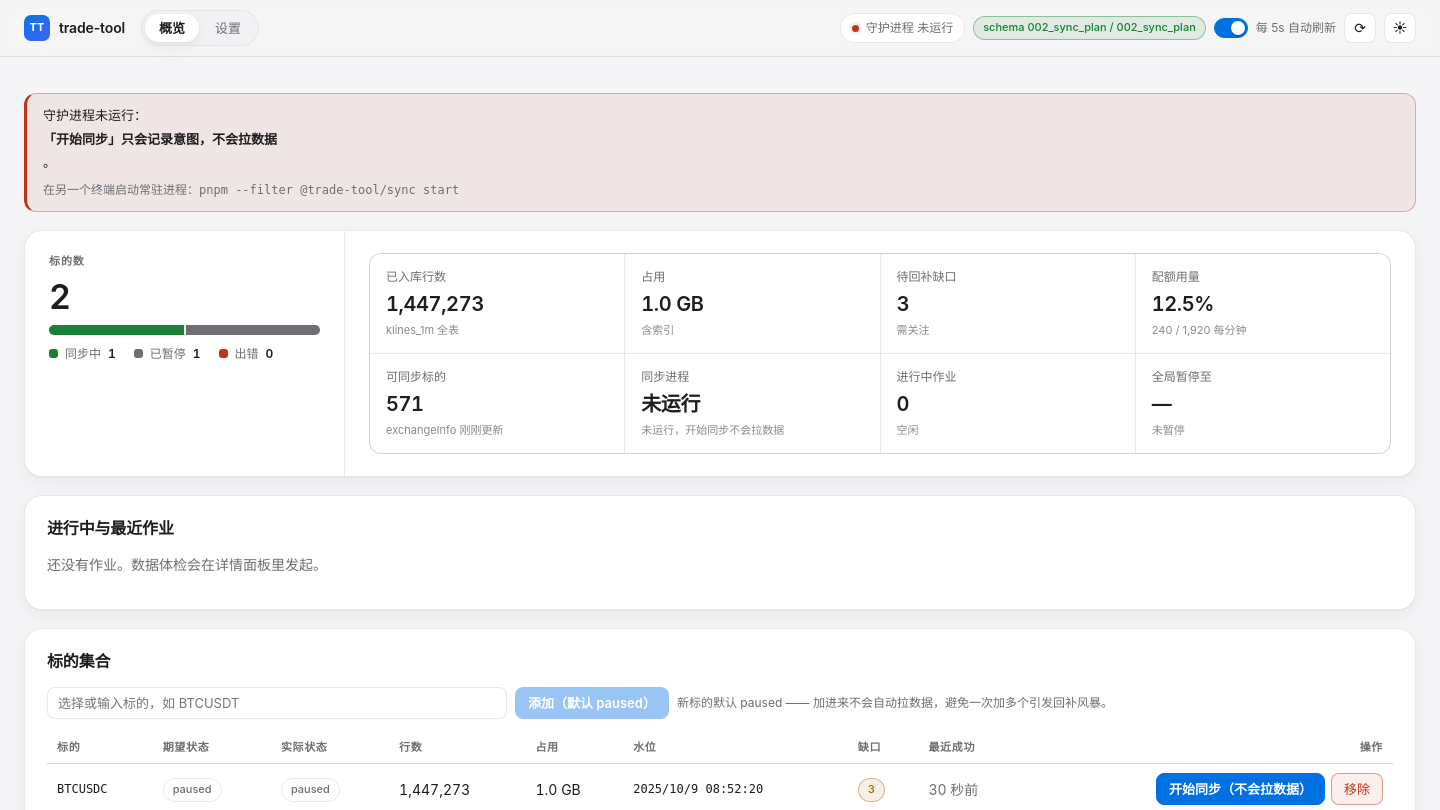
「开始同步」的分支 › 守护进程离线：先说清楚「不会拉数据」，不静默写意图
Expected: the text "守护进程未运行" is shown, [43,107,134,123]
# 按钮标签本身就写明不会拉数据（R-25.5），不是只在 title 里说
Click the button "开始同步（不会拉数据）".
click(1240, 789)  # box [1156,773,1325,806]
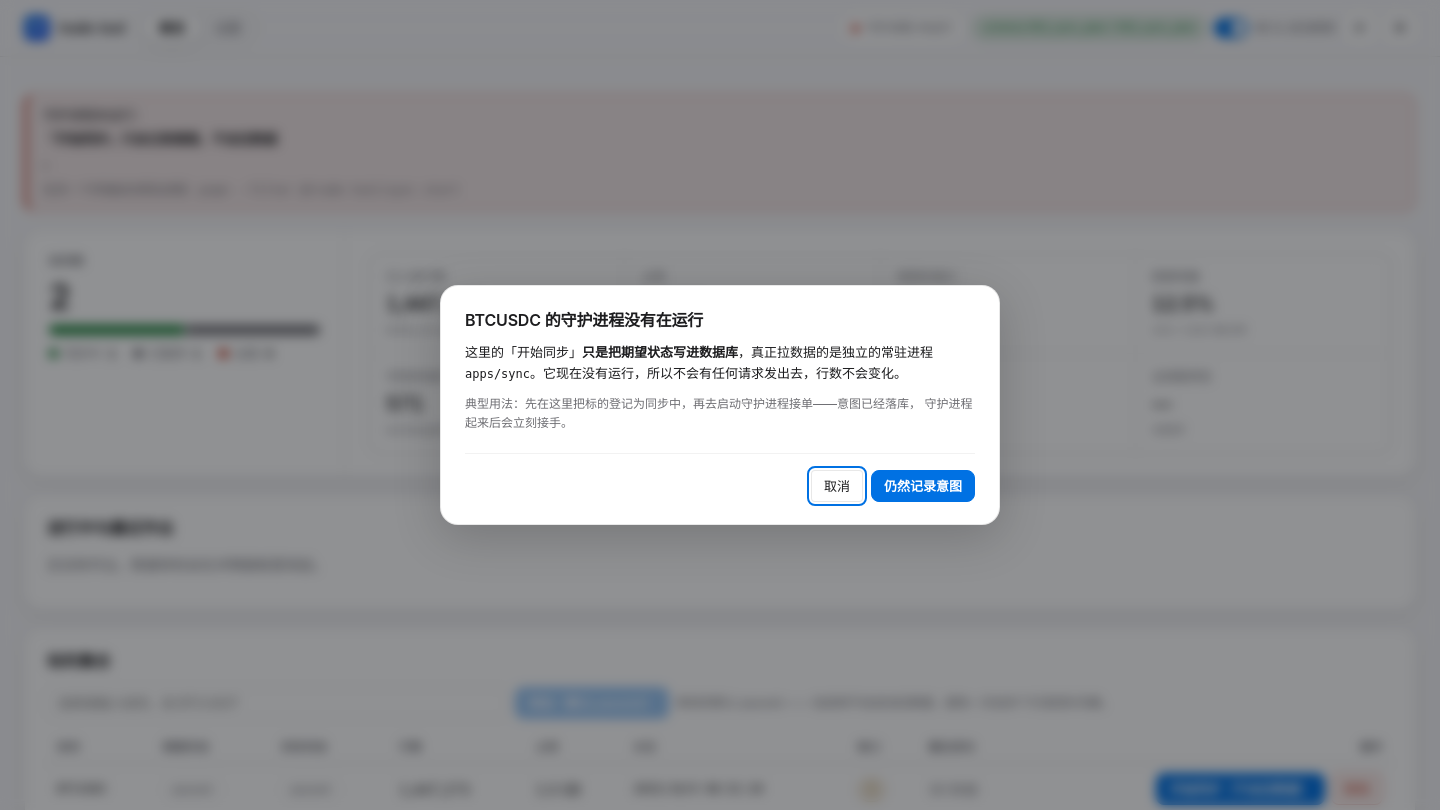
Expected: the text "只是把期望状态写进数据库" is shown, [582,344,738,360]
